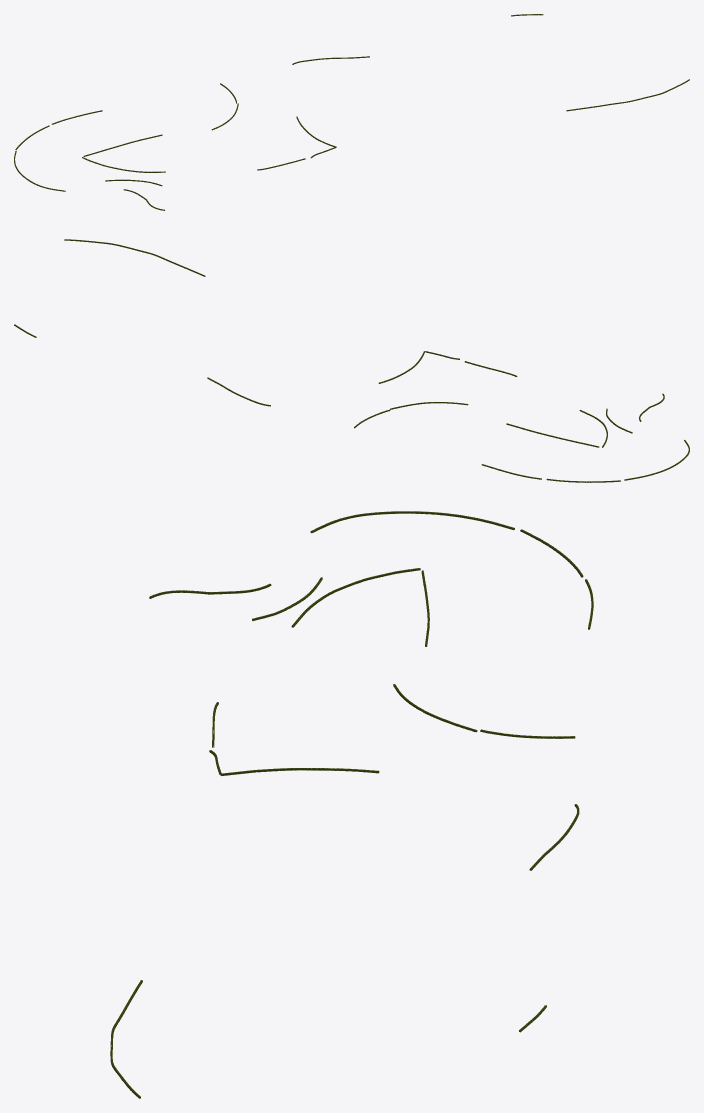
File: TireBarrier_Mobile.fbx
The picture shows the model from 3 angles, top to bottom: view 1: azimuth 30°, elevation 25°; view 2: azimuth 150°, elevation 25°; view 3: azimuth 270°, elevation 25°; orthographic projection. The views are drawn at different scales.
Size of the model in its own units: 502 by 11.28 by 175.
